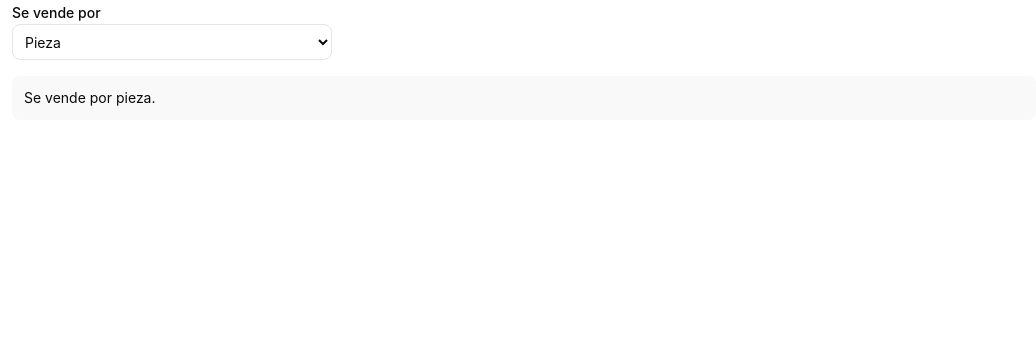
Test case: SalesUnitFields › returns to a clean piece configuration when switching back
Select "Metro (listones y cintas)" in the dropdown labelled "Se vende por": coordinates (172, 42) [12, 24, 332, 60]
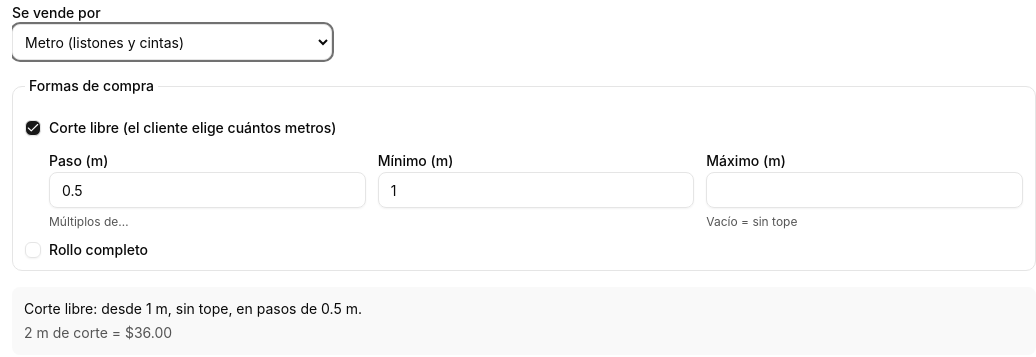
Select "Pieza" in the dropdown labelled "Se vende por": coordinates (172, 42) [12, 24, 332, 60]
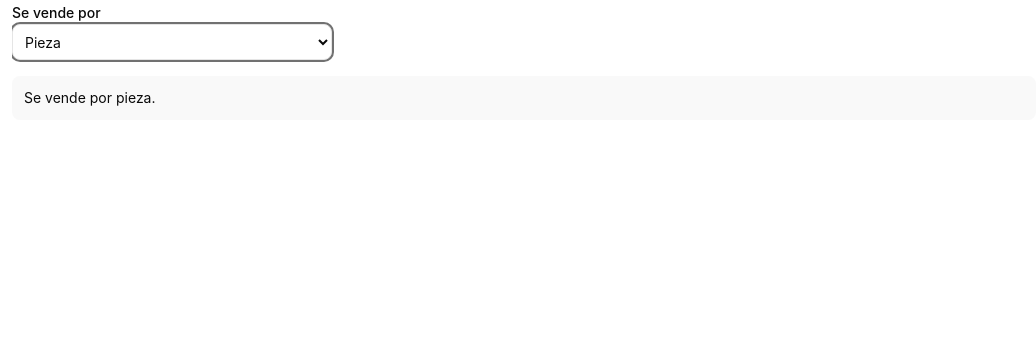
Check: the text "Se vende por pieza." is shown, box [24, 89, 156, 106]
